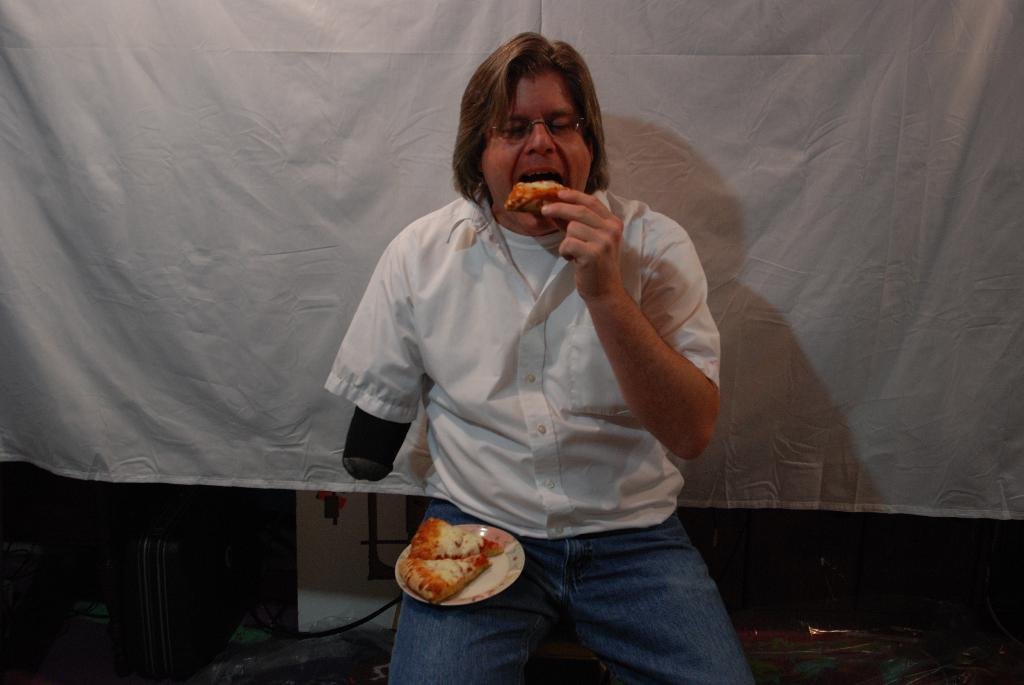Pizza: (384, 522, 504, 609), (502, 173, 574, 225)
